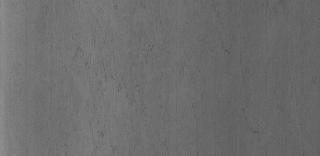silk spot: (89, 34, 158, 114)
